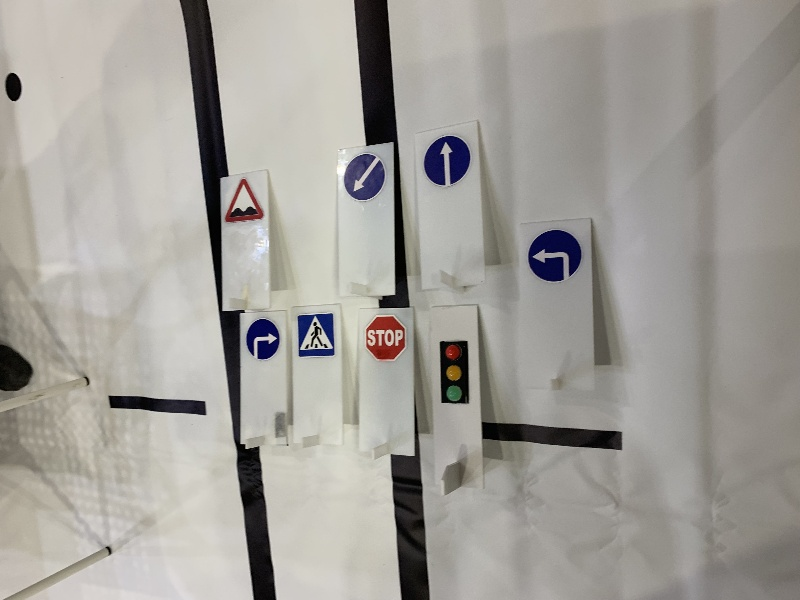Left: (527, 227, 584, 285)
Nerov: (225, 180, 262, 223)
Right: (246, 318, 282, 357)
Stop: (366, 315, 405, 359)
forw: (420, 135, 470, 184)
pesh: (295, 311, 336, 359)
prep: (342, 154, 388, 201)
